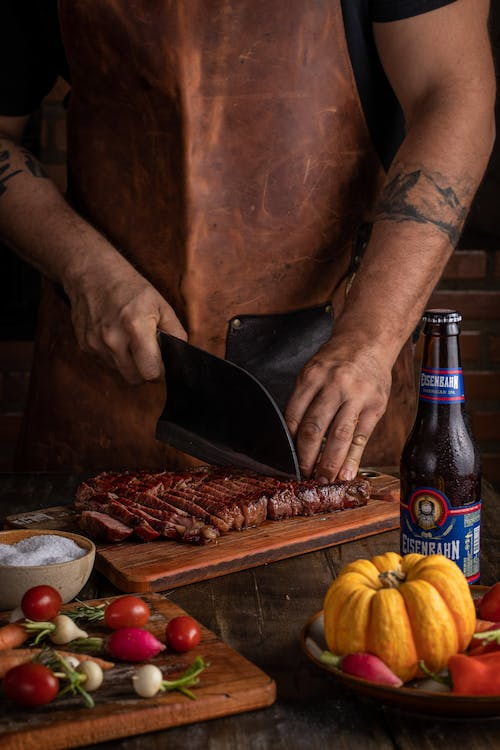alcohol: (396, 306, 483, 588)
knife: (149, 324, 303, 487)
